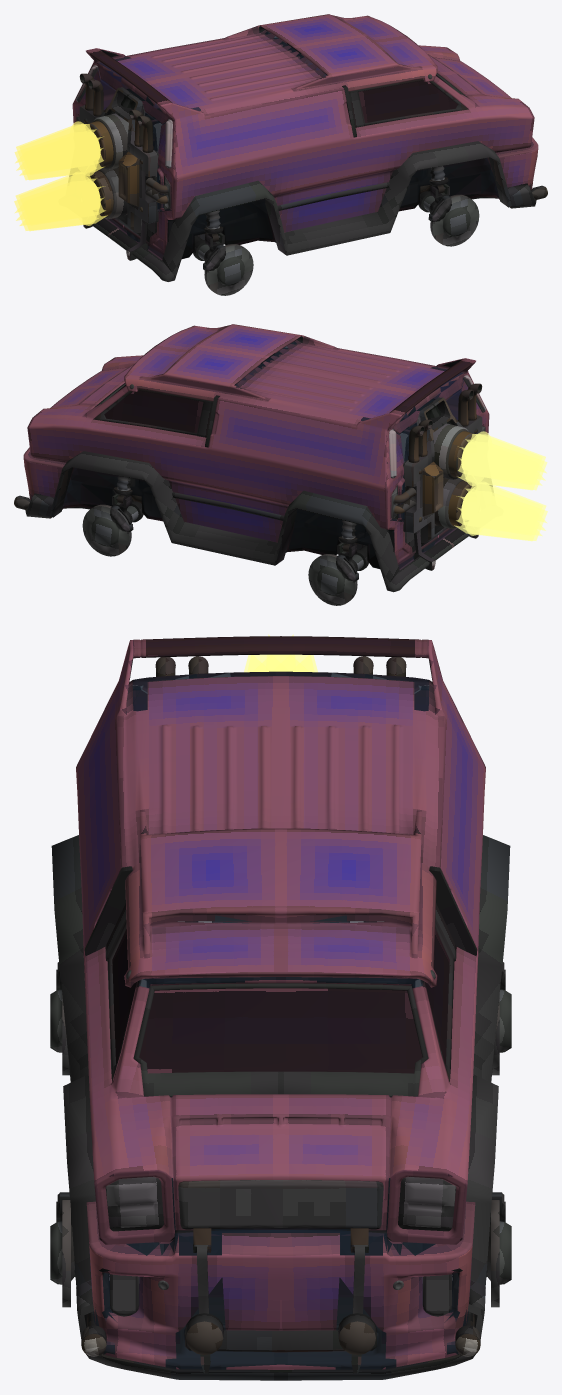
Rendered from Merc_Vanquish_DetailedMaterials.glb.
3 renders of one model, top to bottom at view 1: azimuth 30°, elevation 25°; view 2: azimuth 150°, elevation 25°; view 3: azimuth 270°, elevation 25°, orthographic. The views are drawn at different scales.
Parts seen in each view (by area): view 1: Merc_Vanquish_DetailedMaterials; view 2: Merc_Vanquish_DetailedMaterials; view 3: Merc_Vanquish_DetailedMaterials.
Part boxes in pixels (box(x1,y1,x2,y2)): Merc_Vanquish_DetailedMaterials: box(14, 14, 547, 295); Merc_Vanquish_DetailedMaterials: box(14, 324, 547, 605); Merc_Vanquish_DetailedMaterials: box(50, 634, 511, 1380).
Size of the model in its own units: 1.7 by 0.6524 by 0.6907.
Materials: 6 (5 with a texture image).
